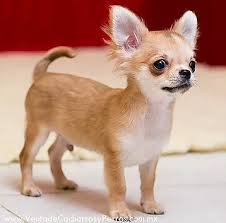chihuahua: (23, 5, 220, 217)
